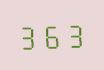six: (41, 20, 62, 49)
three: (18, 21, 39, 50), (63, 19, 84, 48)
